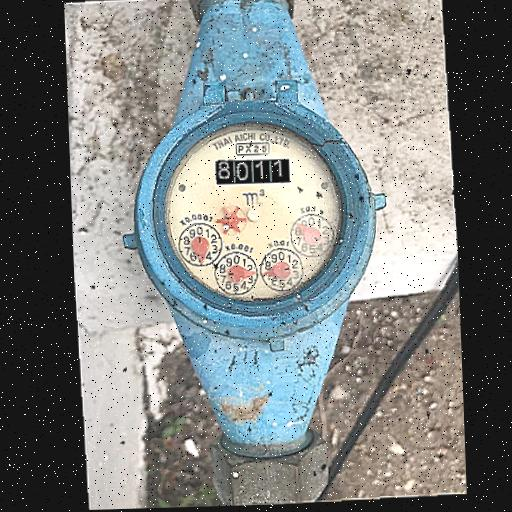0: (235, 160, 253, 184)
1: (271, 159, 291, 183), (253, 160, 270, 183)
8: (216, 160, 235, 185)
border_water_meter_number: (215, 158, 291, 186)
